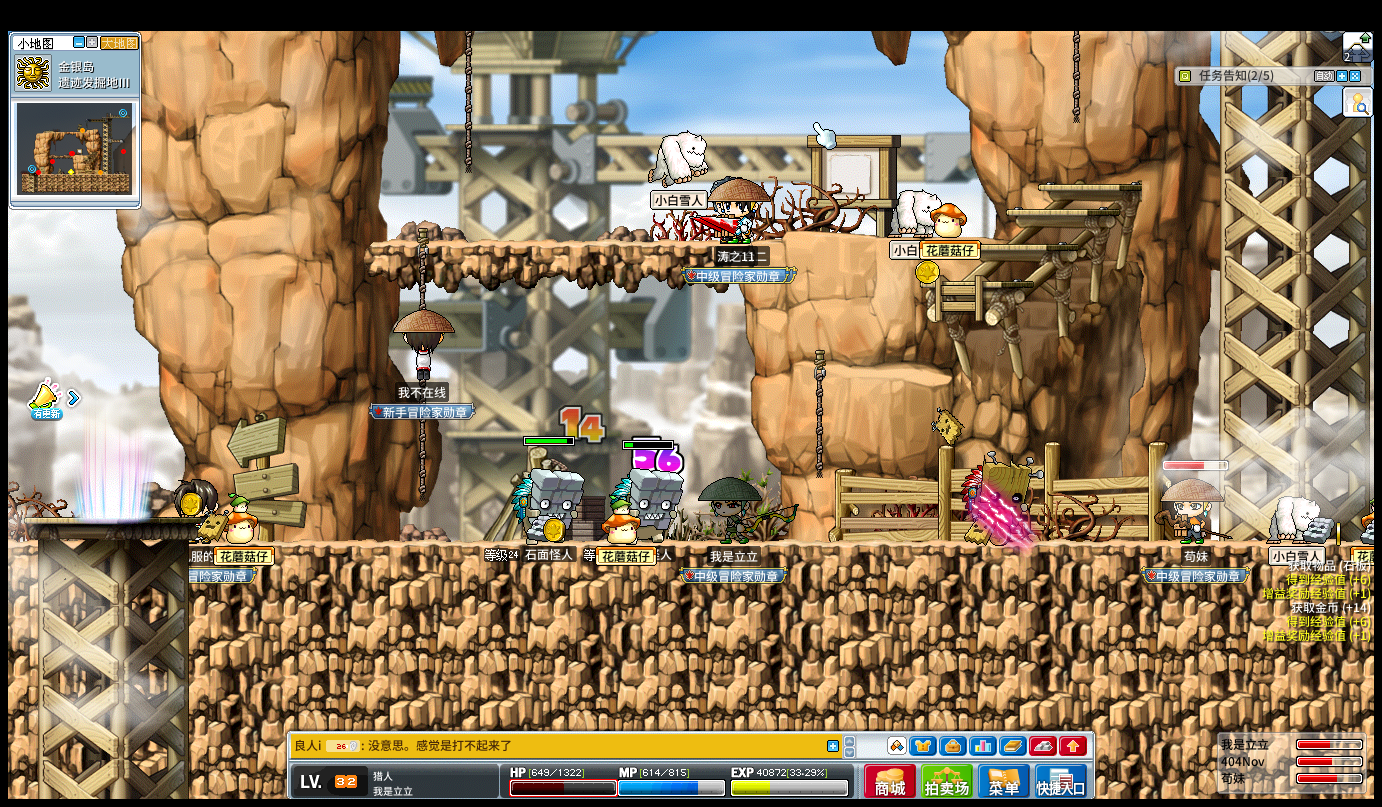floor: (365, 239, 745, 249), (846, 364, 953, 385), (20, 515, 197, 524), (917, 280, 1030, 289), (1004, 207, 1118, 215), (1037, 184, 1143, 191), (965, 244, 1075, 250)
monster: (963, 454, 1039, 543), (511, 468, 585, 542), (613, 470, 683, 535), (613, 470, 683, 513)
rope: (812, 350, 825, 481), (465, 29, 475, 175), (464, 30, 472, 173), (414, 227, 427, 308), (1070, 31, 1080, 122), (418, 420, 428, 505)
